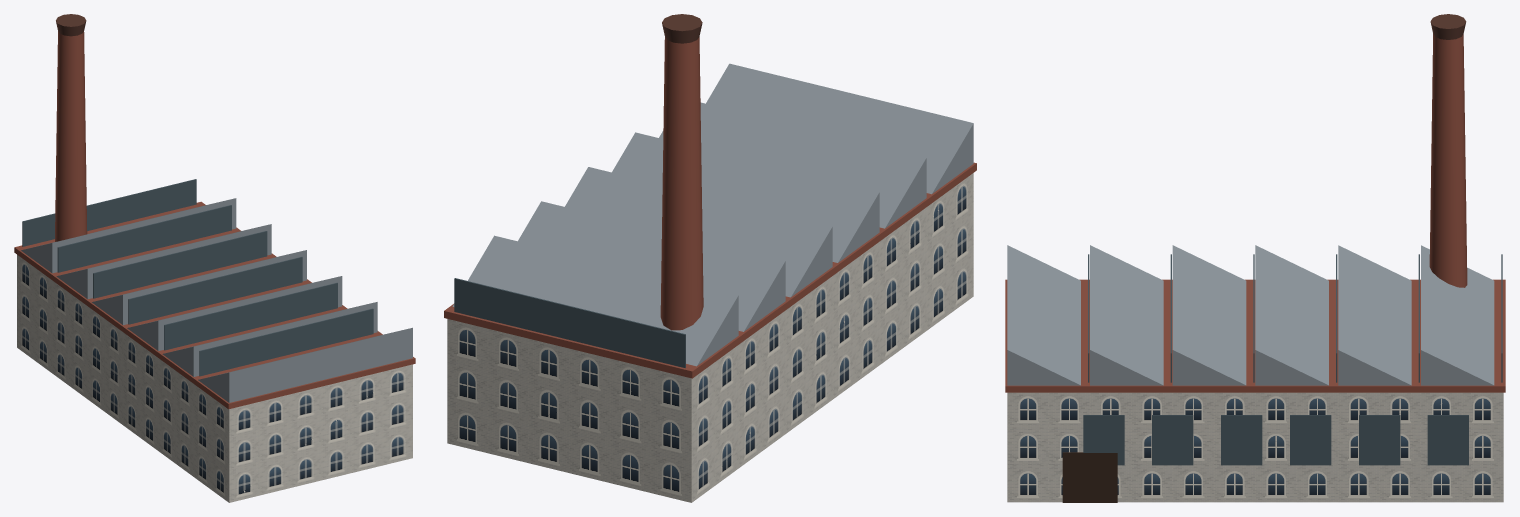
File: fabriek.obj
The picture shows the model from 3 angles, left to right: view 1: azimuth 30°, elevation 25°; view 2: azimuth 150°, elevation 25°; view 3: azimuth 270°, elevation 25°; orthographic projection. The views are drawn at different scales.
Parts seen in each view (by area): view 1: part1, part14.nocast, part12, part15, part9.nocast, part5.nocast, part13.nocast, part7.nocast, part11.nocast, part3.nocast, part10, part6 (+4 smaller); view 2: part1, part12, part2, part10, part15, part8, part6, part4, part3.nocast, part14.nocast, part16; view 3: part1, part14.nocast, part8, part6, part12, part4, part10, part15, part2, part23.nocast, part17.nocast, part18.nocast (+5 smaller).
Boxes of the visible parts, x1=… form: part1: x1=17, y1=255, x2=412, y2=502; part14.nocast: x1=14, y1=201, x2=415, y2=409; part12: x1=198, y1=327, x2=412, y2=402; part15: x1=55, y1=31, x2=87, y2=241; part9.nocast: x1=128, y1=257, x2=302, y2=324; part5.nocast: x1=57, y1=205, x2=231, y2=272; part13.nocast: x1=199, y1=308, x2=373, y2=376; part7.nocast: x1=93, y1=231, x2=267, y2=298; part11.nocast: x1=164, y1=282, x2=337, y2=350; part3.nocast: x1=22, y1=179, x2=196, y2=246; part10: x1=162, y1=302, x2=377, y2=376; part6: x1=92, y1=250, x2=306, y2=325; part1: x1=447, y1=173, x2=973, y2=502; part12: x1=706, y1=63, x2=973, y2=194; part2: x1=452, y1=235, x2=738, y2=366; part10: x1=659, y1=102, x2=926, y2=228; part15: x1=660, y1=36, x2=703, y2=330; part8: x1=612, y1=132, x2=879, y2=262; part6: x1=565, y1=167, x2=832, y2=297; part4: x1=518, y1=201, x2=785, y2=331; part3.nocast: x1=454, y1=278, x2=685, y2=367; part14.nocast: x1=444, y1=162, x2=976, y2=378; part16: x1=662, y1=14, x2=702, y2=43; part1: x1=1007, y1=392, x2=1503, y2=502; part14.nocast: x1=1005, y1=279, x2=1505, y2=392; part8: x1=1172, y1=245, x2=1246, y2=385; part6: x1=1255, y1=245, x2=1328, y2=385; part12: x1=1007, y1=245, x2=1080, y2=385; part4: x1=1338, y1=245, x2=1411, y2=385; part10: x1=1090, y1=245, x2=1163, y2=385; part15: x1=1429, y1=34, x2=1467, y2=287; part2: x1=1421, y1=245, x2=1494, y2=385; part23.nocast: x1=1062, y1=452, x2=1117, y2=502; part17.nocast: x1=1427, y1=415, x2=1468, y2=465; part18.nocast: x1=1359, y1=415, x2=1400, y2=465.
Size of the model in its own units: 18.3 by 31.5 by 36.3.
6 materials, 1 textured.
